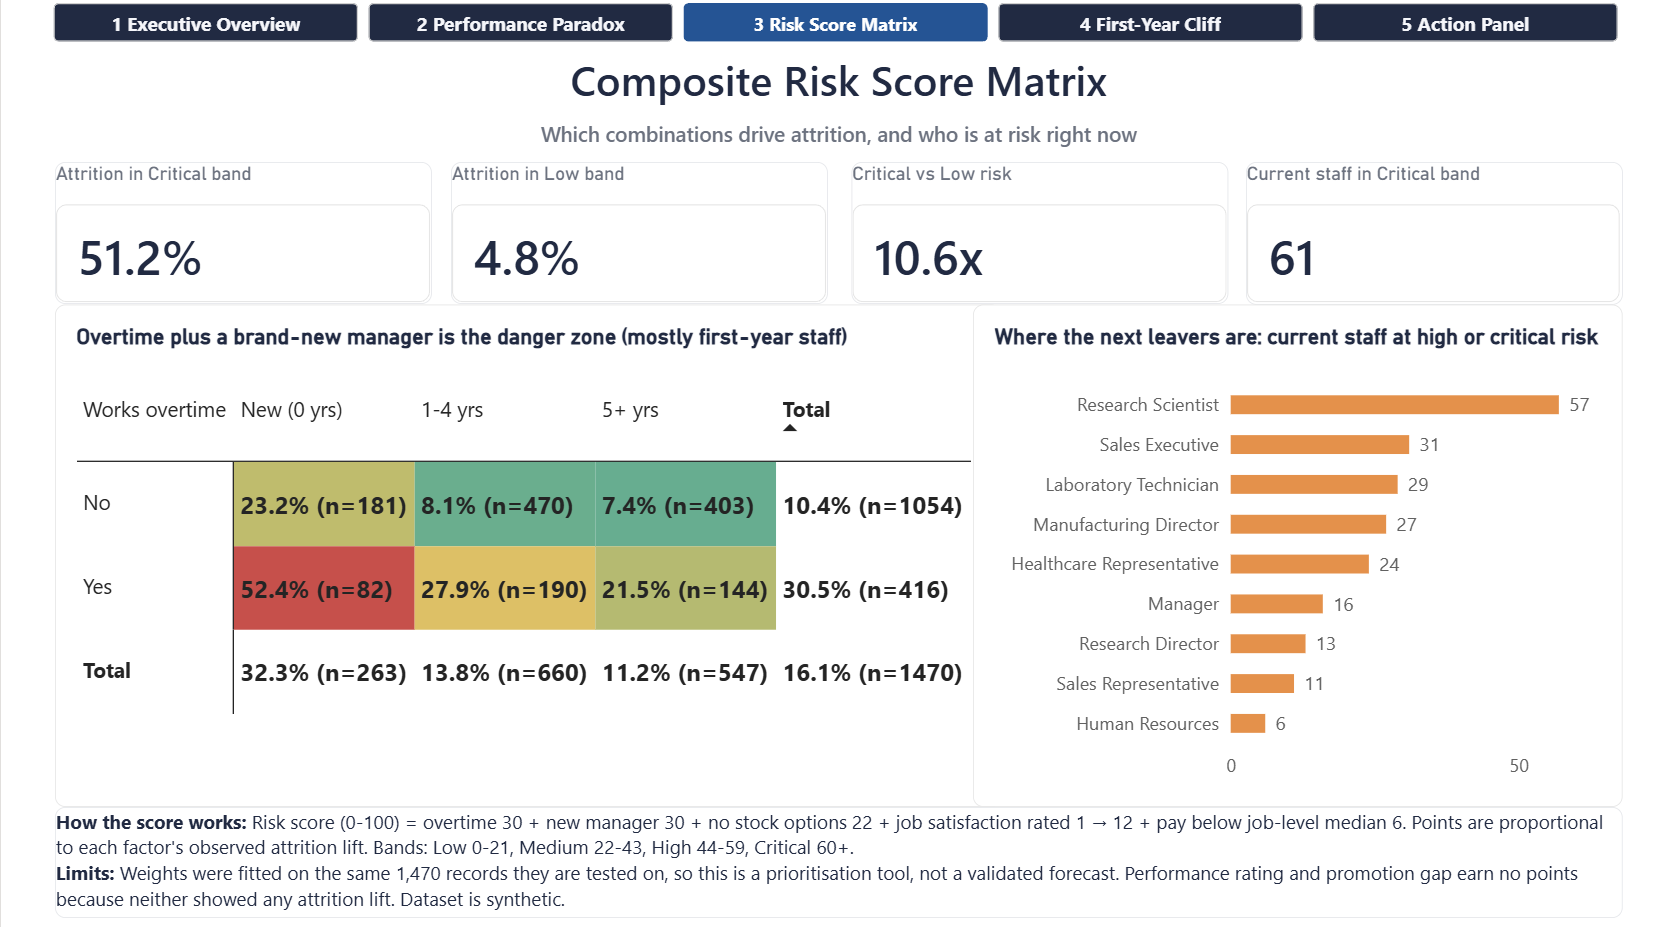

This screenshot's page, from the dashboard's own definition file:
{"tool":"powerbi","page":{"name":"3 Risk Score Matrix","canvas":[1280,720],"ordinal":3},"visuals":[{"type":"textbox","box":[41.8,39.5,1214.5,51.1],"z":0},{"type":"textbox","box":[41.8,93,1214.5,31.4],"z":1000},{"type":"cardVisual","title":"Attrition in Critical band","fields":{"Data":["select","_Measures.Critical Attrition"]},"box":[41.8,125.5,292,110],"z":2000},{"type":"cardVisual","title":"Attrition in Low band","fields":{"Data":["select","_Measures.Low Attrition"]},"box":[348.7,125.5,292,110],"z":3000},{"type":"cardVisual","title":"Critical vs Low risk","fields":{"Data":["select","_Measures.Risk Multiple"]},"box":[659,125.5,292,110],"z":4000},{"type":"cardVisual","title":"Current staff in Critical band","fields":{"Data":["select","_Measures.Current Critical Staff"]},"box":[964.7,125.5,291.7,110.4],"z":5000},{"type":"textbox","box":[41.8,625.3,1214.5,86],"z":6000},{"type":"pivotTable","title":"Overtime plus a brand-new manager is the danger zone (mostly first-year staff)","fields":{"Columns":["employees.manager_tenure_band"],"Rows":["employees.overtime"],"Values":["_Measures.Rate with N"]},"box":[41.8,235.9,733.4,389.3],"z":7000},{"type":"clusteredBarChart","title":"Where the next leavers are: current staff at high or critical risk","fields":{"Category":["employees.job_role"],"Y":["_Measures.Current Staff at High or Critical Risk"]},"box":[753.1,235.9,503.2,389.3],"z":8000},{"type":"pageNavigator","box":[41,2,1214.5,30],"z":8001}]}

Visuals, with their boxes in screenshot pixels (x1, y1, x2, y2), scaled from the page's 1280x720 canvas onto the 1653x927 screenshot:
textbox: crop(54, 51, 1622, 117)
textbox: crop(54, 120, 1622, 160)
"Attrition in Critical band" cardVisual: crop(54, 162, 431, 303)
"Attrition in Low band" cardVisual: crop(450, 162, 827, 303)
"Critical vs Low risk" cardVisual: crop(851, 162, 1228, 303)
"Current staff in Critical band" cardVisual: crop(1246, 162, 1623, 304)
textbox: crop(54, 805, 1622, 916)
"Overtime plus a brand-new manager is the danger zone (mostly first-year staff)" pivotTable: crop(54, 304, 1001, 805)
"Where the next leavers are: current staff at high or critical risk" clusteredBarChart: crop(973, 304, 1622, 805)
pageNavigator: crop(53, 3, 1621, 41)
